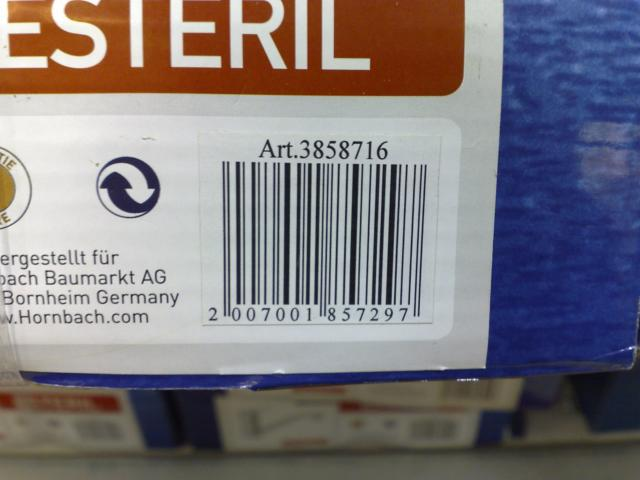Barkod: (219, 160, 425, 306)
